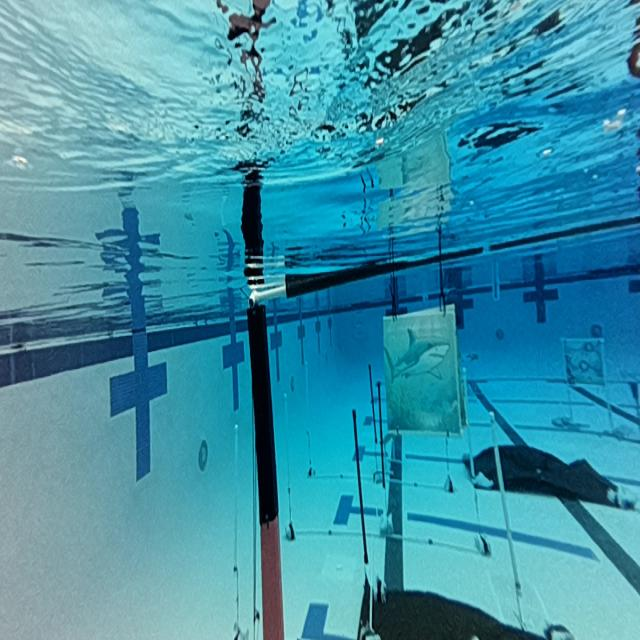round_nose: (384, 298, 463, 439)
